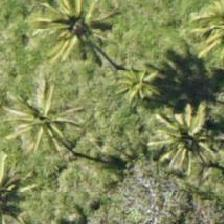coconut_tree: (83, 31, 173, 121), (0, 68, 86, 158), (139, 97, 223, 187), (21, 0, 111, 65)
